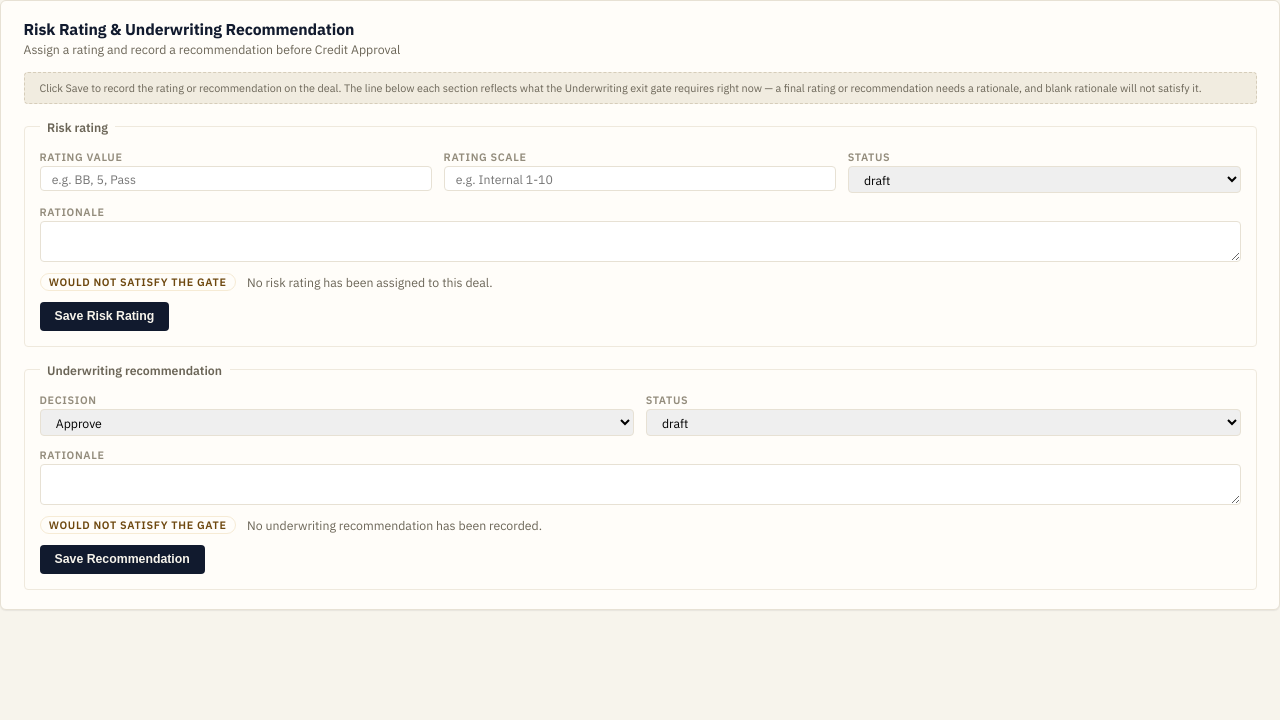
Scenario: DealRiskRatingPanel › persistence (Factory Arc Phase 5) › saves the risk rating independently of the recommendation via the governed write path
Type "BB" into the field labelled "Rating value" at (236, 179), box [40, 166, 432, 191]
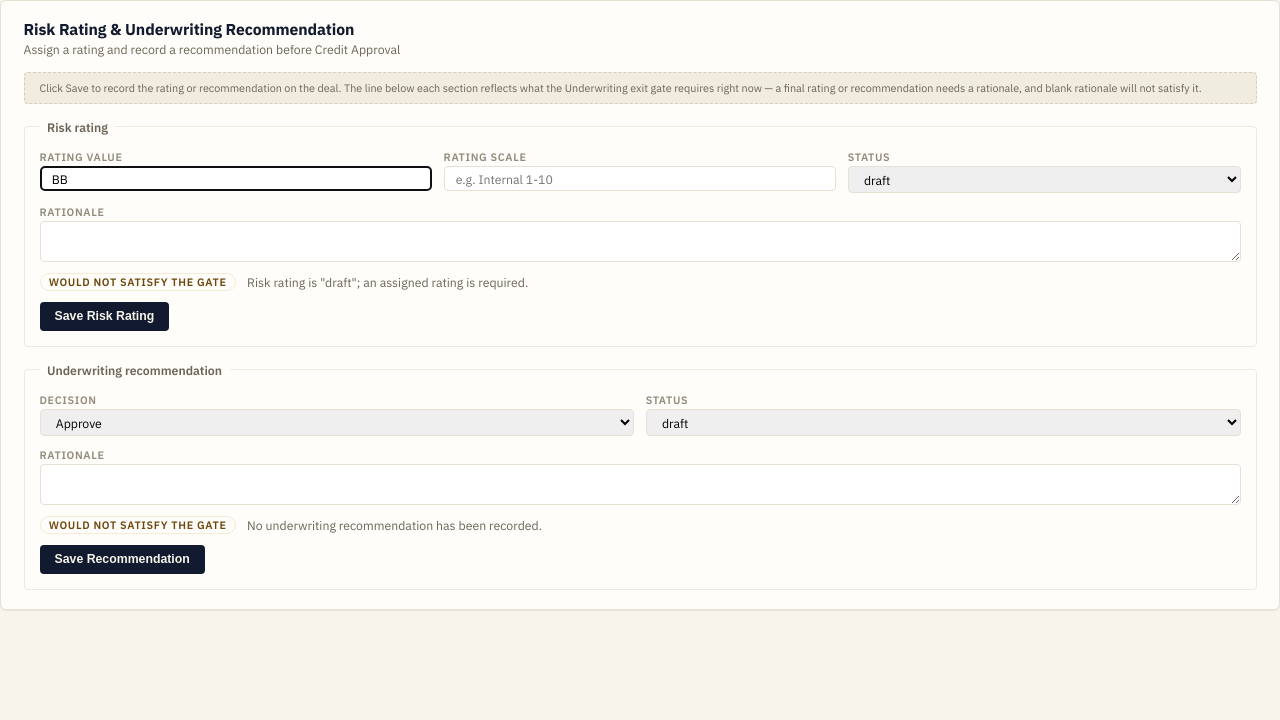
Click the button "Save Risk Rating" at (104, 316), box [40, 302, 169, 331]
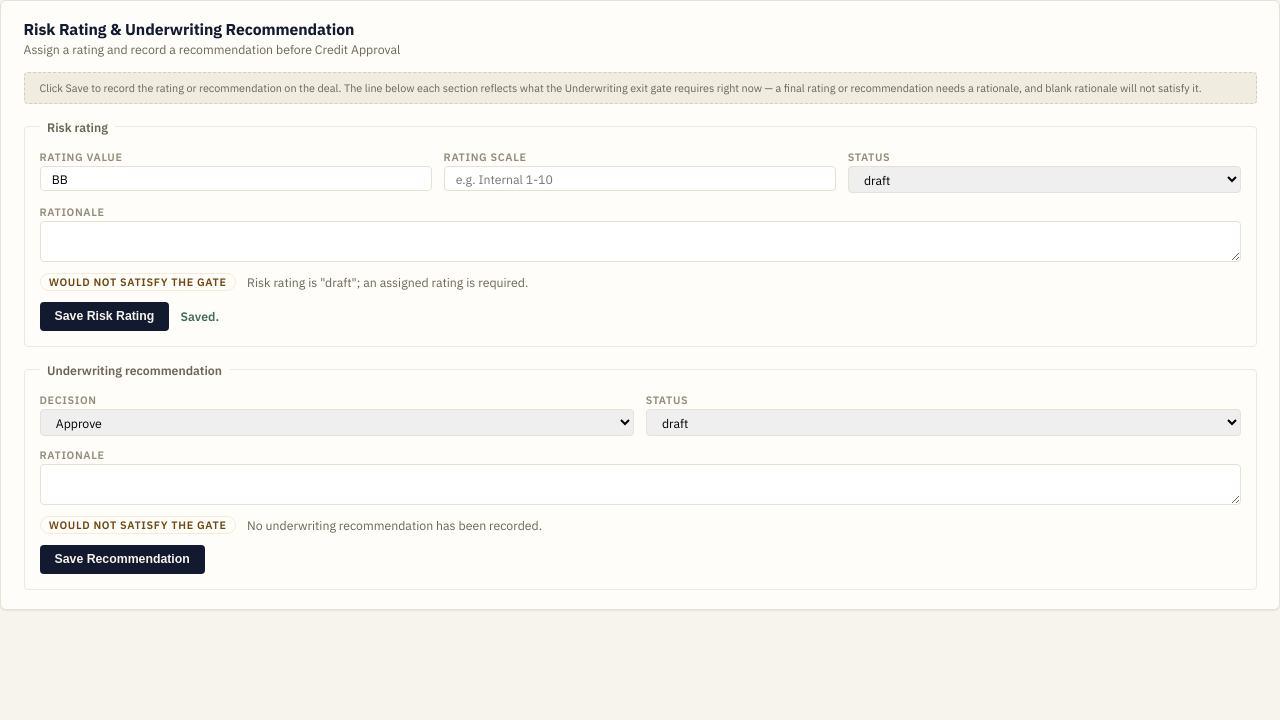
Result: the message "Saved." is shown at [180, 308, 219, 324]
